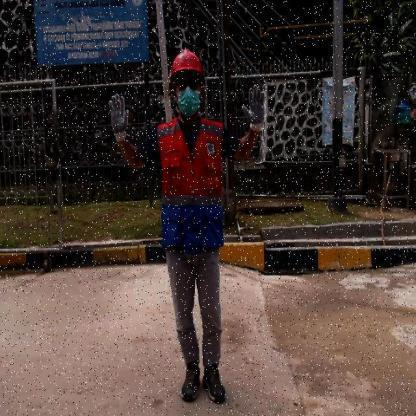boots: (200, 358, 228, 406), (180, 357, 202, 407)
gloves: (240, 82, 268, 134), (108, 93, 131, 144)
helmet: (168, 48, 206, 79)
mask: (174, 88, 202, 121)
